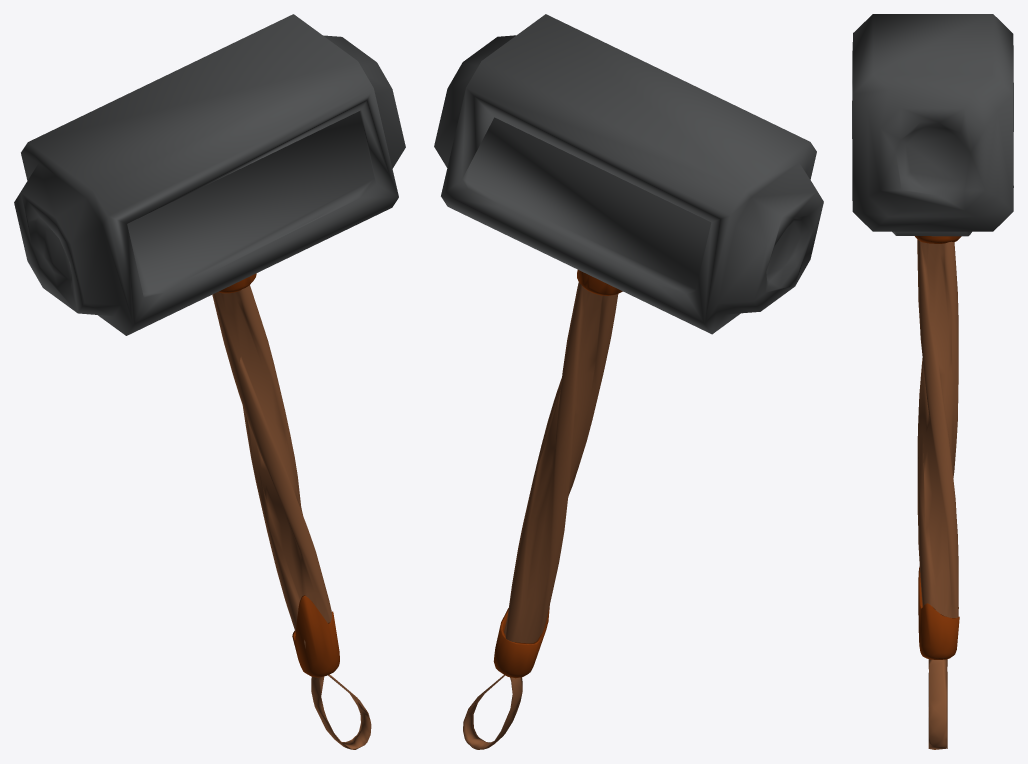
The model's file is hammer.glb.
3 views of the same model, side by side, from view 1: azimuth 30°, elevation 25°; view 2: azimuth 150°, elevation 25°; view 3: azimuth 270°, elevation 25° (orthographic). The views are drawn at different scales.
Visible parts, largest first — view 1: Cube.003_Material.005_0, Cylinder_Material.001_0, Circle_Material.003_0, Plane_Material.002_0; view 2: Cube.003_Material.005_0, Cylinder_Material.001_0, Circle_Material.003_0, Plane_Material.002_0; view 3: Cube.003_Material.005_0, Cylinder_Material.001_0, Circle_Material.003_0, Plane_Material.002_0, Cylinder.001_Material.004_0.
Boxes of the visible parts, x1,y1,x2,y2 form: Cube.003_Material.005_0: (14,14,405,335); Cylinder_Material.001_0: (212,285,331,648); Circle_Material.003_0: (292,595,339,677); Plane_Material.002_0: (311,674,371,749); Cube.003_Material.005_0: (434,14,823,334); Cylinder_Material.001_0: (504,282,618,643); Circle_Material.003_0: (493,605,549,678); Plane_Material.002_0: (463,675,522,749); Cube.003_Material.005_0: (852,14,1013,236); Cylinder_Material.001_0: (917,239,958,617); Circle_Material.003_0: (918,567,959,659); Plane_Material.002_0: (928,659,947,749); Cylinder.001_Material.004_0: (915,236,961,243).
Bounding box in the file's own units: 2.82 × 5.63 × 1.25.
